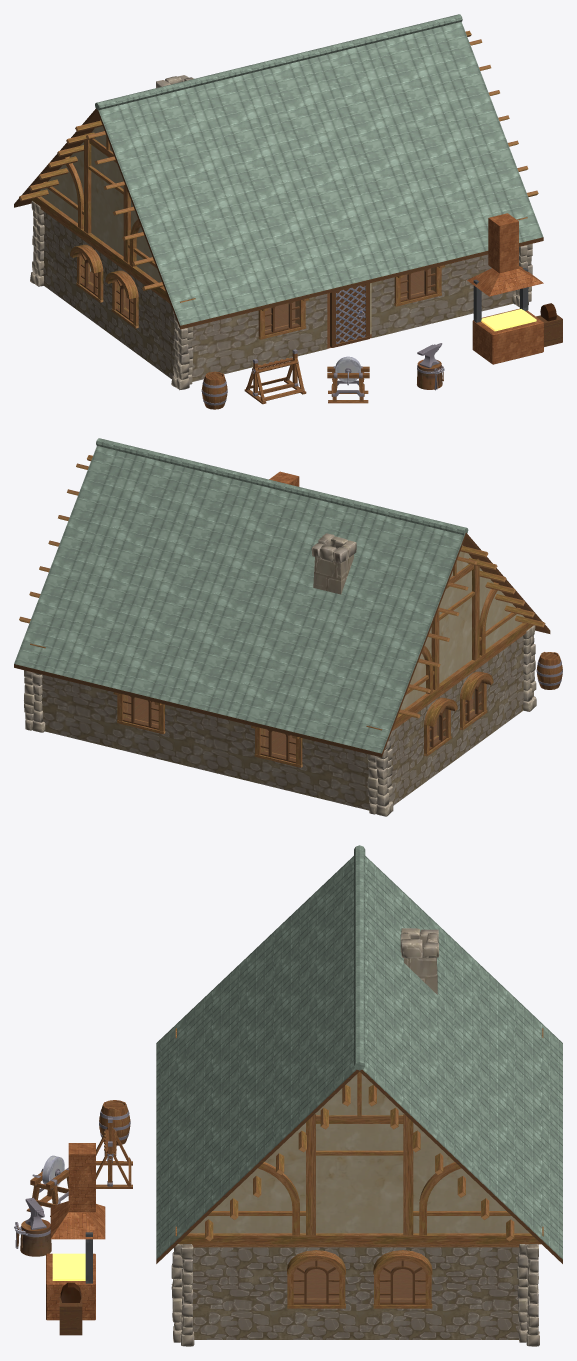
Rendered from blcksmth.glb.
3 renders of one model, top to bottom at view 1: azimuth 30°, elevation 25°; view 2: azimuth 150°, elevation 25°; view 3: azimuth 270°, elevation 25°, orthographic. The views are drawn at different scales.
Visible parts, largest first — view 1: Wall_UnevenBrick_Straight.001; view 2: Wall_UnevenBrick_Straight.001; view 3: Wall_UnevenBrick_Straight.001.
Part boxes in pixels (bbox=[...]): Wall_UnevenBrick_Straight.001: bbox=[14, 14, 562, 409]; Wall_UnevenBrick_Straight.001: bbox=[14, 438, 562, 816]; Wall_UnevenBrick_Straight.001: bbox=[14, 845, 562, 1346].
Bounding box in the file's own units: 12.7 × 7.2 × 12.55.
35 materials, 33 textured.
